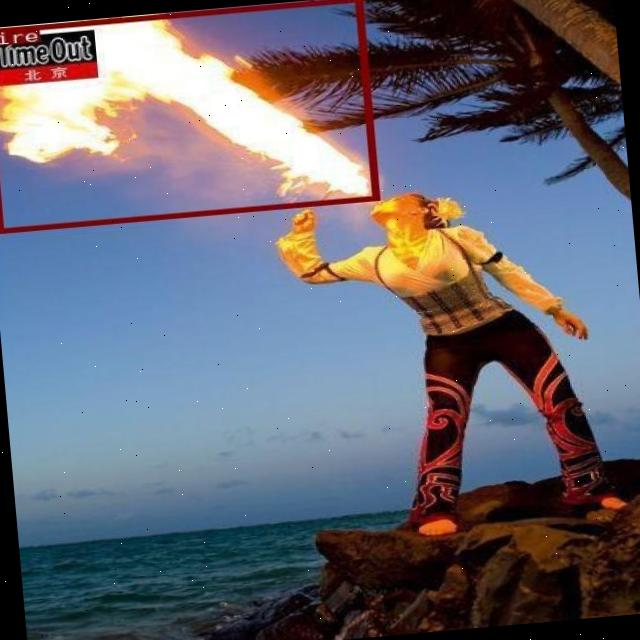fire: (0, 0, 377, 232)
